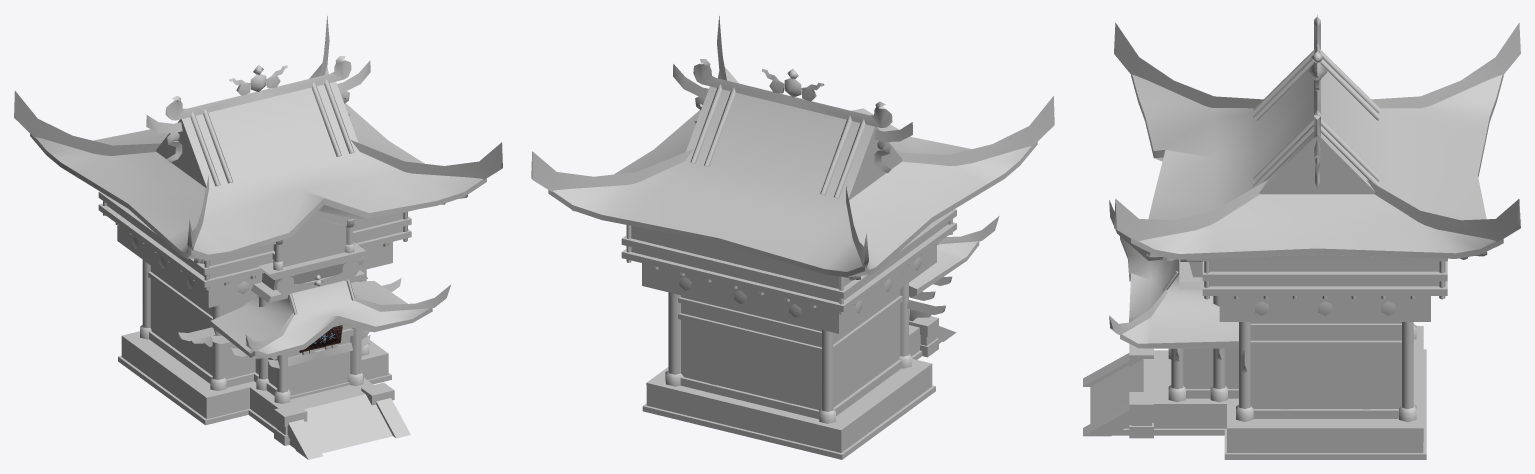
Rendered from QYS_Town_A_01_01.FBX.
The picture shows the model from 3 angles, left to right: view 1: azimuth 30°, elevation 25°; view 2: azimuth 150°, elevation 25°; view 3: azimuth 270°, elevation 25°; orthographic projection. The views are drawn at different scales.
Visible parts, largest first — view 1: QYS_Town_A_01_01; view 2: QYS_Town_A_01_01; view 3: QYS_Town_A_01_01.
Part boxes in pixels (x1,y1,x2,y2): QYS_Town_A_01_01: (14,16,502,459); QYS_Town_A_01_01: (531,16,1054,459); QYS_Town_A_01_01: (1083,14,1520,459).
Bounding box in the file's own units: 3154 × 2945 × 3280.
